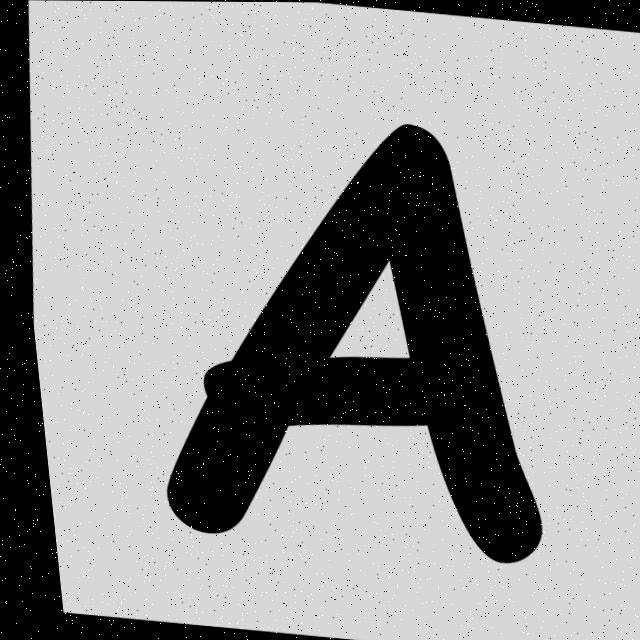A: (157, 124, 529, 561)
